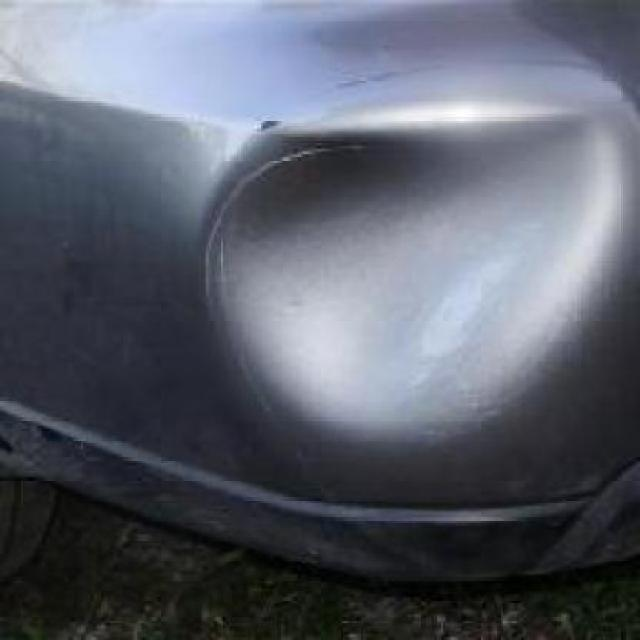dent-or-scratch: (198, 80, 640, 462)
